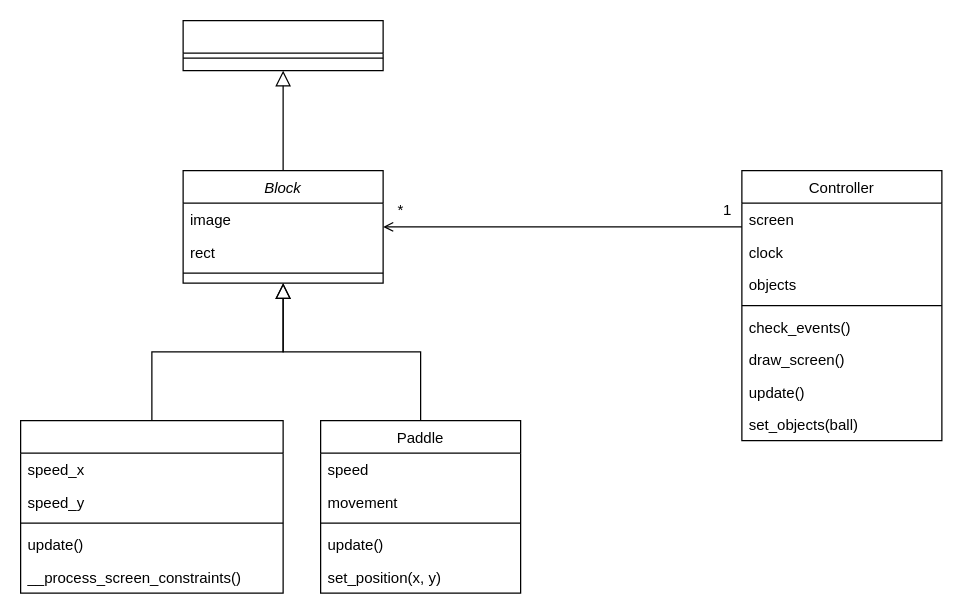
Some shapes in this 963 by 614 pixel diagram are drawn without their labels. The box of each missing label's shape, as (x1, y1, x2, y2) in pixels:
Ball: (19, 419, 283, 593)
pygame.sprite.Sprite: (182, 19, 383, 71)
